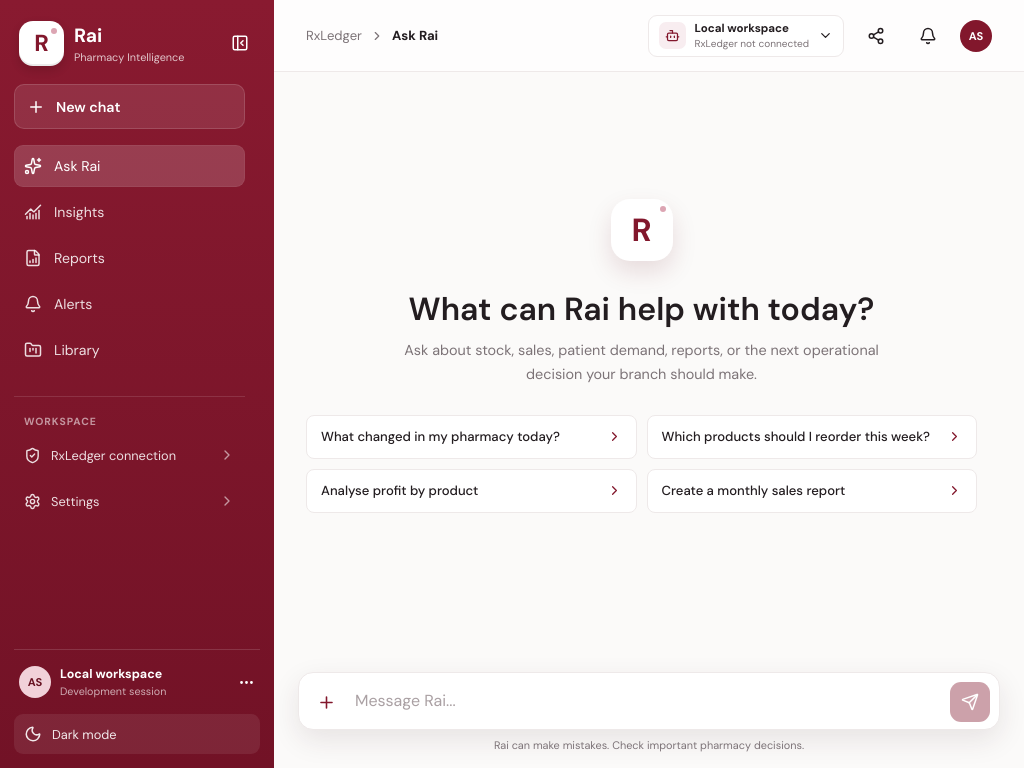
Test: Rai frontend › sends a question to Rai's backend and renders its grounded response
Type "Which medicines should I reorder?" into the text box named "Ask Rai" at (648, 701), box [351,680,945,722]
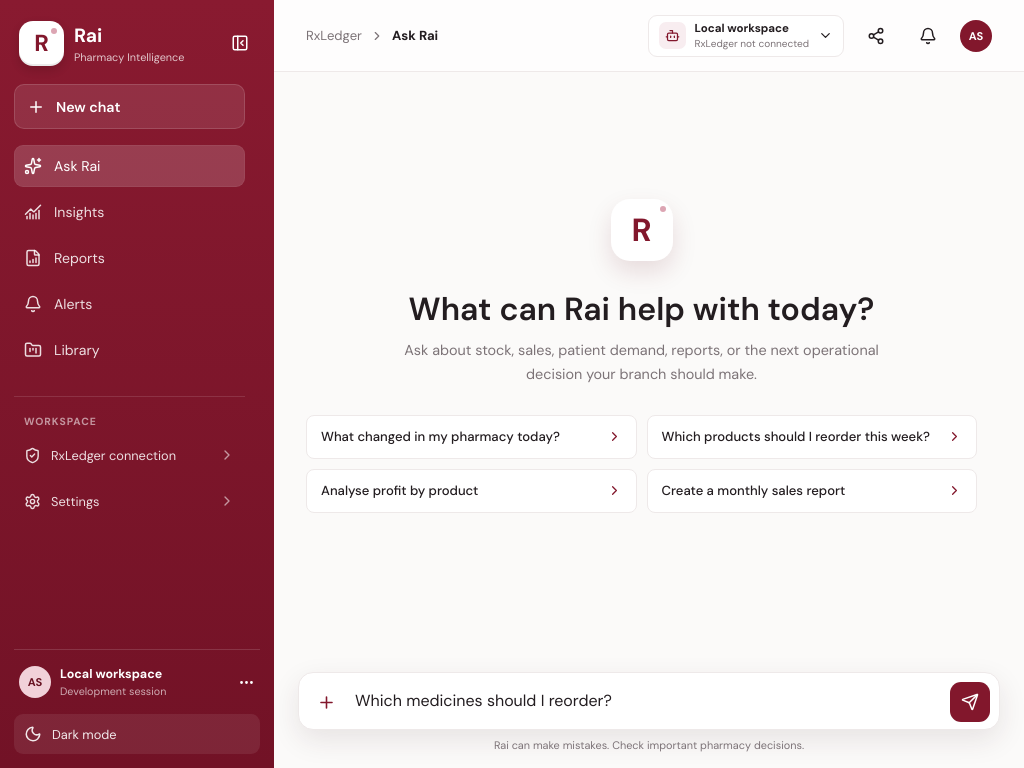
Click the button named "Send message" at (970, 702), box [950,682,990,722]
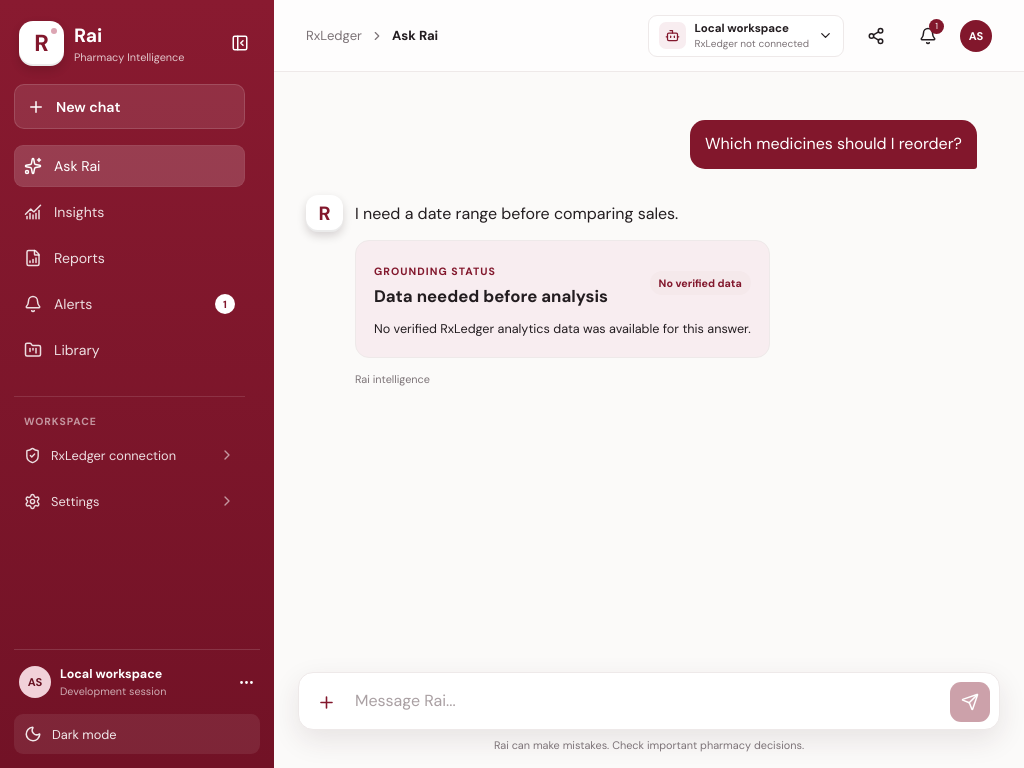
Expected: the text "Which medicines should I reorder?" is shown, [690,120,977,169]
Expected: the text "I need a date range before comparing sales." is shown, [355,203,678,224]
